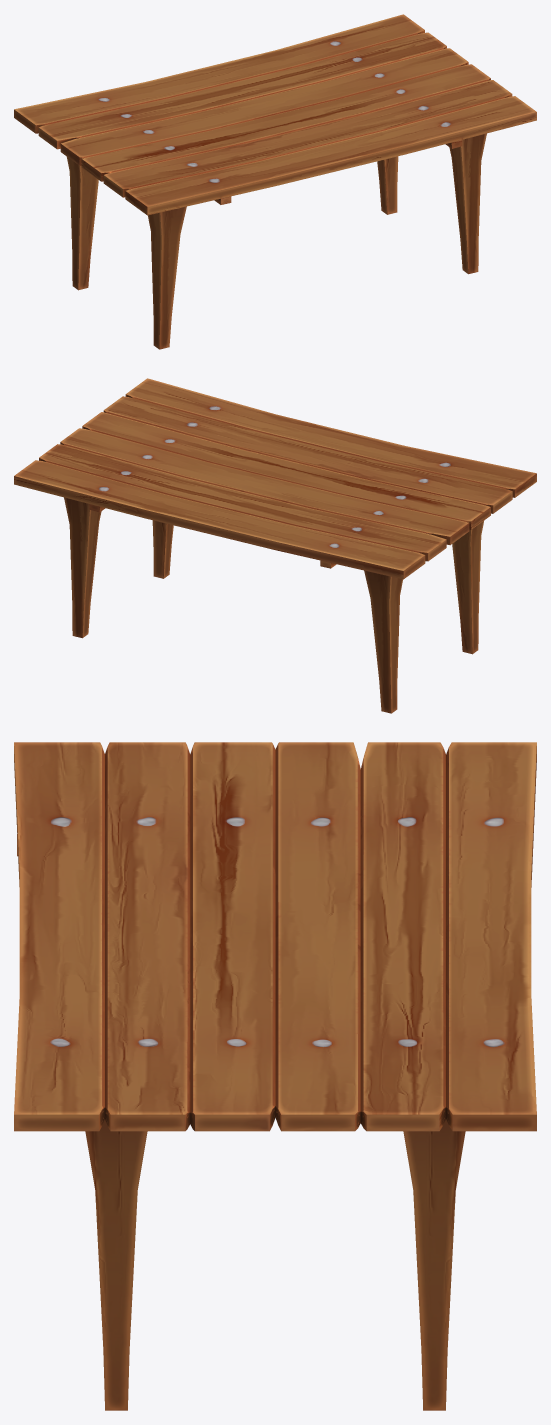
Rendered from Table02.FBX.
3 views of the same model, one above another, from view 1: azimuth 30°, elevation 25°; view 2: azimuth 150°, elevation 25°; view 3: azimuth 270°, elevation 25° (orthographic). The views are drawn at different scales.
Visible parts, largest first — view 1: Table02; view 2: Table02; view 3: Table02.
Boxes of the visible parts, box(x1,y1,x2,y2) form: Table02: box(14, 14, 536, 349); Table02: box(14, 378, 536, 713); Table02: box(14, 742, 536, 1410).
Size of what is drawn, in the model's own units: 2.01 by 0.8318 by 1.2.
